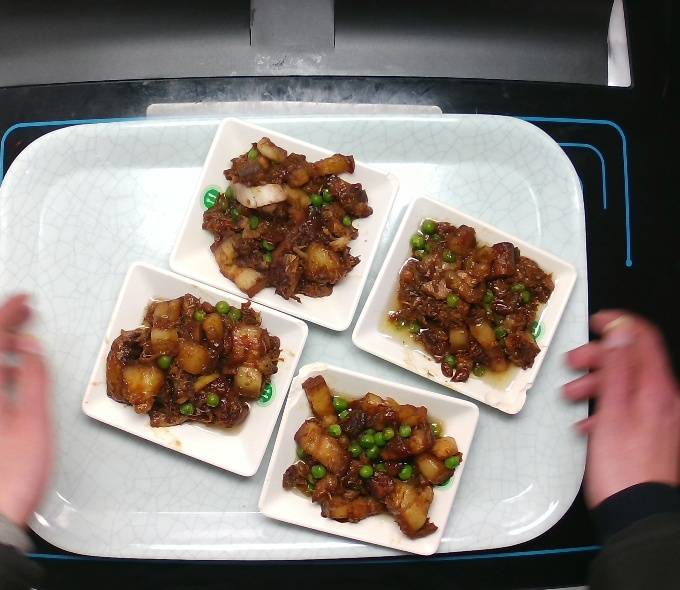wcq-JiangRou: (284, 375, 469, 546), (202, 129, 380, 306), (381, 214, 560, 387), (102, 288, 284, 444)
